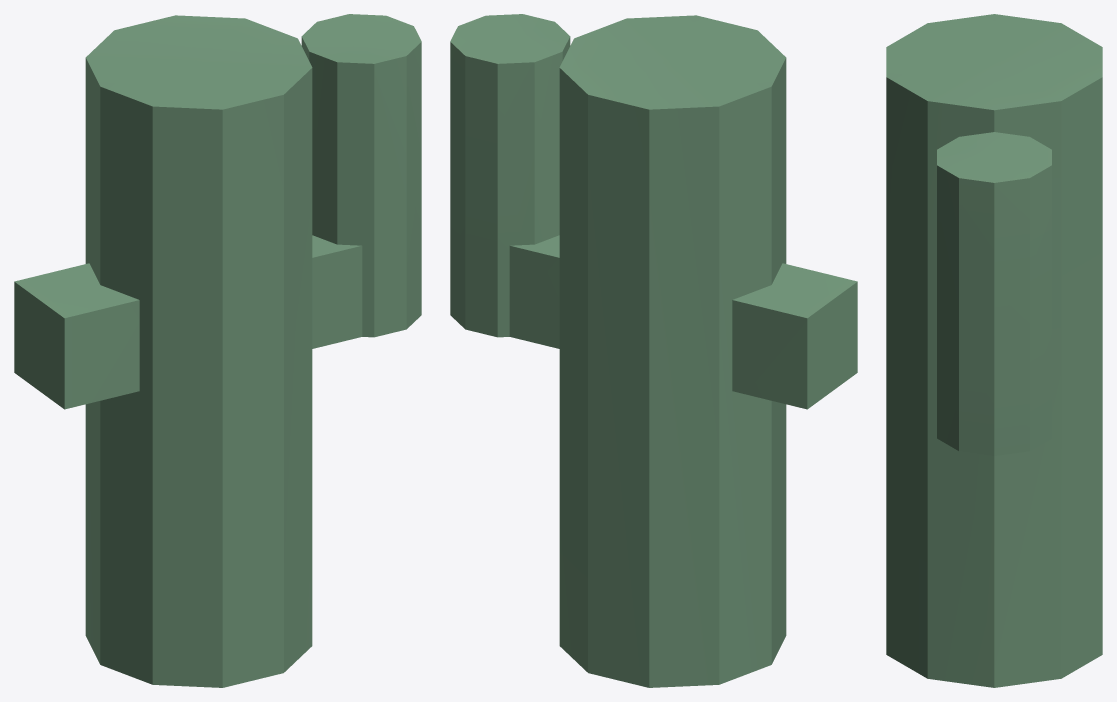
Rendered from cactus-02.glb.
3 renders of one model, left to right at view 1: azimuth 30°, elevation 25°; view 2: azimuth 150°, elevation 25°; view 3: azimuth 270°, elevation 25°, orthographic.
Visible parts, largest first — view 1: world; view 2: world; view 3: world.
Boxes of the visible parts, x1=… form: world: x1=14, y1=14, x2=421, y2=687; world: x1=450, y1=14, x2=857, y2=687; world: x1=886, y1=14, x2=1102, y2=687.
Size of the model in its own units: 0.645 by 0.9515 by 0.3234.
